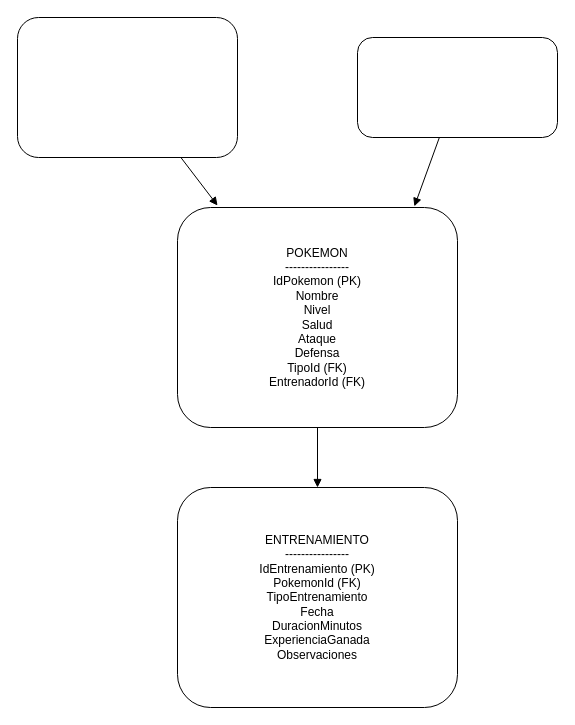
This 575x725 diagram has some shape labels left out. The shapes that lost their labels are listed below. From the top down, each one's centre as x and y in pixels, then its label:
At [127,87]: "ENTRENADOR ---------------- IdEntrenador (PK) Nombre Ciudad".
At [457,87]: "TIPO ---------------- IdTipo (PK) Nombre".
